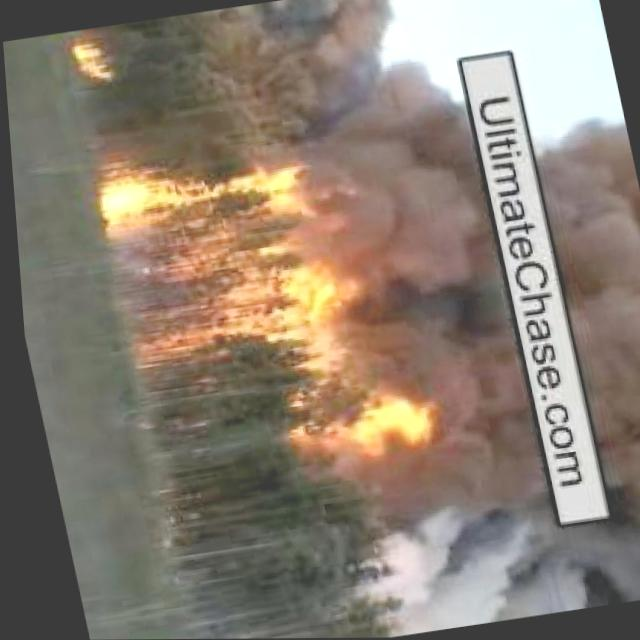Fire: (80, 139, 351, 371), (284, 395, 445, 470), (67, 29, 119, 92)
Smoke: (271, 0, 579, 635), (522, 116, 640, 603)
